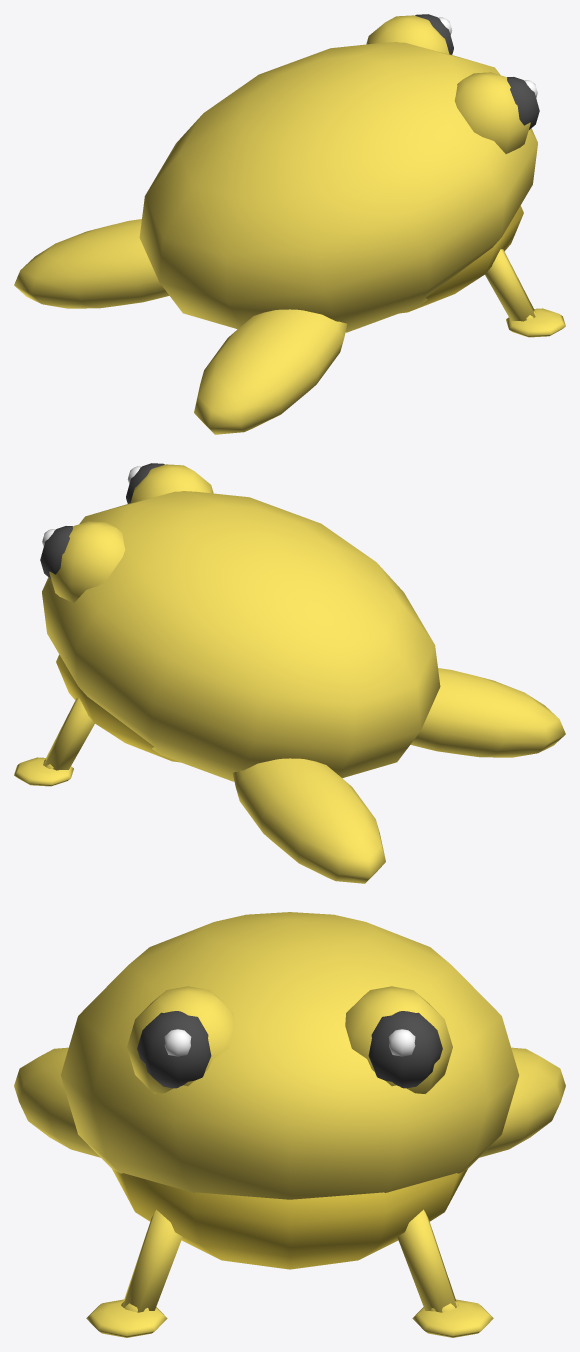
File: golden-poison-frog.glb
3 renders of one model, top to bottom at view 1: azimuth 30°, elevation 25°; view 2: azimuth 150°, elevation 25°; view 3: azimuth 270°, elevation 25°, orthographic. The views are drawn at different scales.
Visible parts, largest first — view 1: e, e.005, e.012, e.006; view 2: e, e.012, e.005, e.013; view 3: e, e.006, e.013, e.005, e.012.
Boxes of the visible parts, x1,y1,x2,y2 form: e: [139, 14, 539, 332]; e.005: [194, 309, 347, 434]; e.012: [14, 219, 169, 308]; e.006: [485, 249, 565, 337]; e: [40, 463, 440, 781]; e.012: [232, 758, 385, 883]; e.005: [410, 668, 565, 757]; e.013: [14, 698, 94, 786]; e: [60, 912, 519, 1269]; e.006: [86, 1209, 182, 1337]; e.013: [397, 1209, 493, 1337]; e.005: [14, 1047, 100, 1157]; e.012: [479, 1047, 565, 1157].
Bounding box in the file's own units: 0.3866 × 0.224 × 0.3467.
